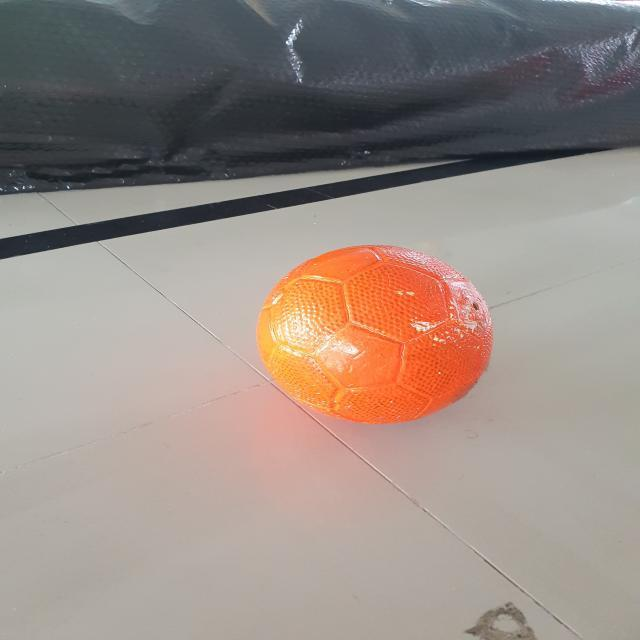bola: (250, 236, 507, 428)
